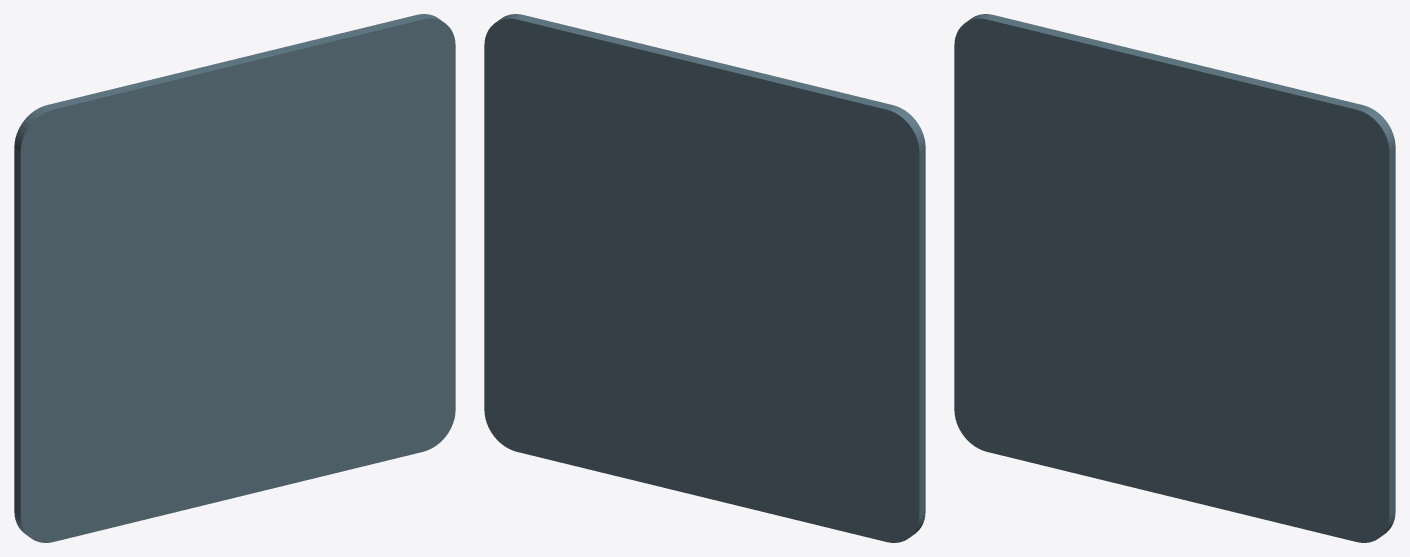
File: lens.glb
3 renders of one model, left to right at view 1: azimuth 30°, elevation 25°; view 2: azimuth 150°, elevation 25°; view 3: azimuth 330°, elevation 25°, orthographic.
Visible parts, largest first — view 1: lens; view 2: lens; view 3: lens.
Boxes of the visible parts, left/top/right/bottom form: lens: left=14, top=14, right=455, bottom=542; lens: left=484, top=14, right=925, bottom=542; lens: left=954, top=14, right=1395, bottom=542.
Bounding box in the file's own units: 40 × 38 × 1.
